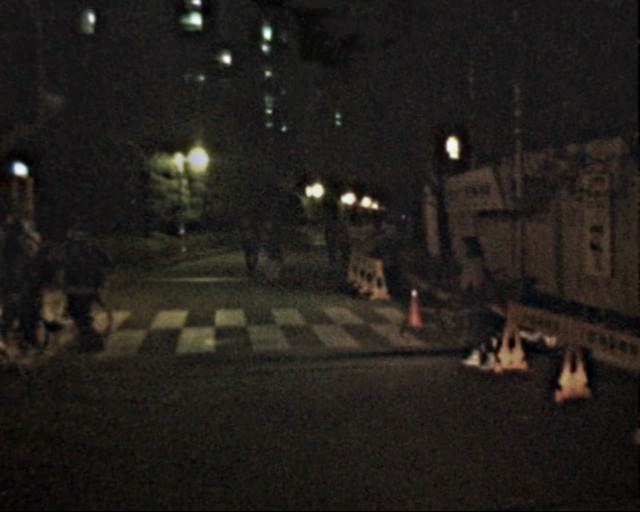person: (2, 209, 65, 349), (446, 236, 504, 371), (58, 219, 116, 353), (257, 217, 283, 281), (233, 216, 259, 279), (330, 219, 351, 270), (318, 220, 339, 270)
